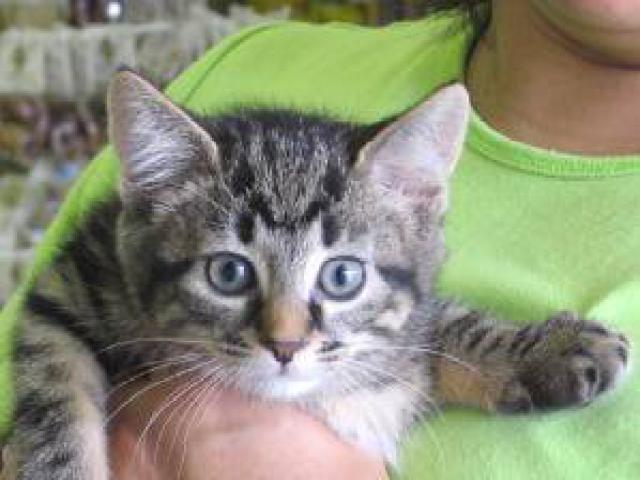cat: (13, 46, 625, 474)
